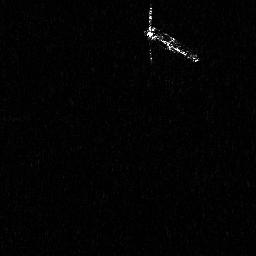ship: (140, 3, 201, 67)
